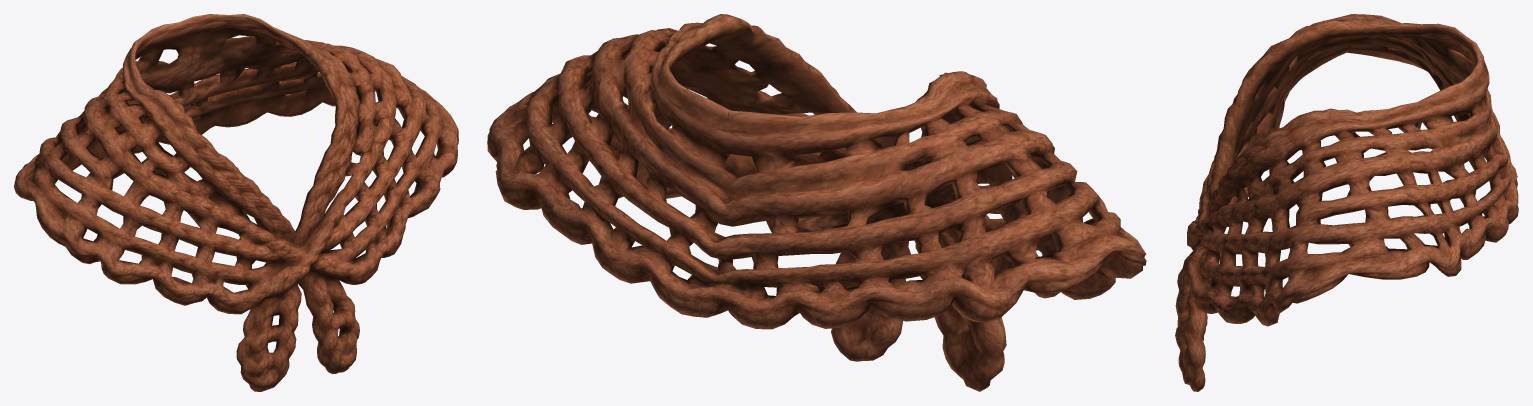
File: Outfit002_Shawl_High.fbx
3 views of the same model, side by side, from view 1: azimuth 30°, elevation 25°; view 2: azimuth 150°, elevation 25°; view 3: azimuth 270°, elevation 25° (orthographic). The views are drawn at different scales.
Parts seen in each view (by area): view 1: Shawl_high; view 2: Shawl_high; view 3: Shawl_high.
Part boxes in pixels (<box>): Shawl_high: <box>14,14,458,391</box>; Shawl_high: <box>487,14,1146,391</box>; Shawl_high: <box>1175,14,1518,391</box>.
Size of the model in its own units: 113 by 70.77 by 71.14.
